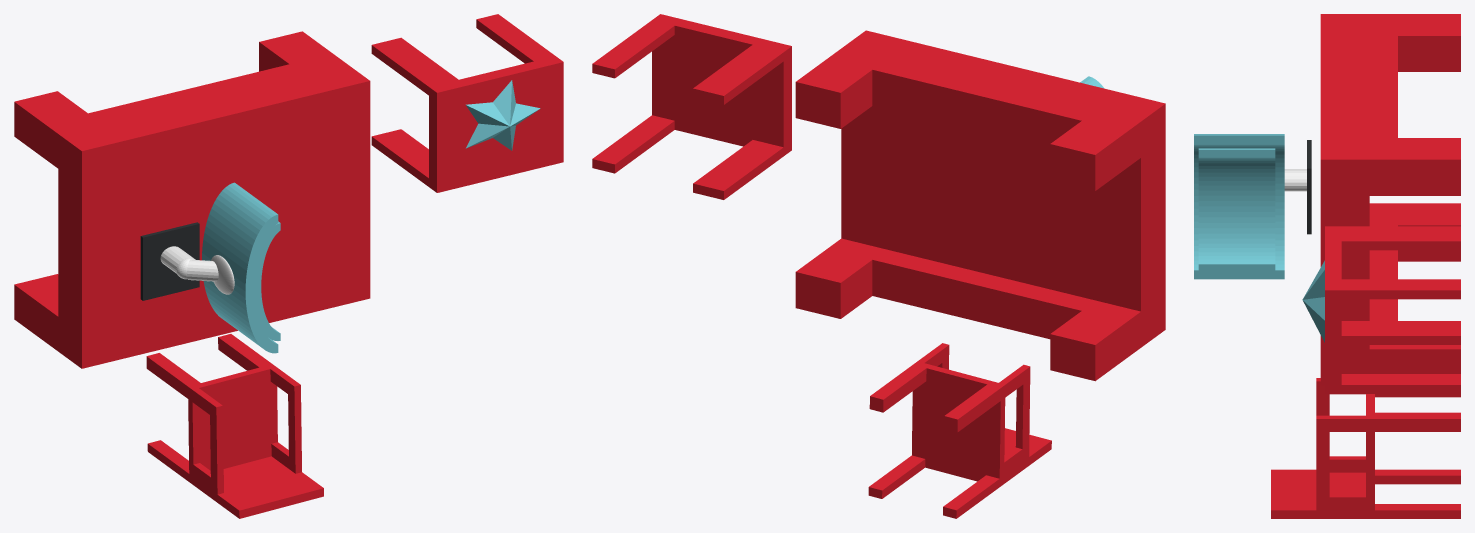
The model's file is tinker.obj.
The picture shows the model from 3 angles, left to right: view 1: azimuth 30°, elevation 25°; view 2: azimuth 150°, elevation 25°; view 3: azimuth 270°, elevation 25°; orthographic projection. The views are drawn at different scales.
Visible parts, largest first — view 1: group_0_15277357, group_0_7720667, group_0_2829873, group_0_16448250; view 2: group_0_15277357; view 3: group_0_15277357, group_0_7720667, group_0_16448250, group_0_2829873.
Part boxes in pixels (box(x1,y1,x2,y2)): group_0_15277357: box(14, 14, 563, 518); group_0_7720667: box(202, 80, 540, 353); group_0_2829873: box(140, 222, 199, 300); group_0_16448250: box(160, 246, 234, 294); group_0_15277357: box(592, 14, 1165, 518); group_0_15277357: box(1271, 14, 1460, 518); group_0_7720667: box(1194, 134, 1324, 342); group_0_16448250: box(1284, 169, 1306, 191); group_0_2829873: box(1307, 140, 1311, 234).
Size of the model in its own units: 128 by 96.72 by 59.
